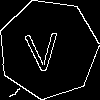V: (23, 24, 61, 72)
